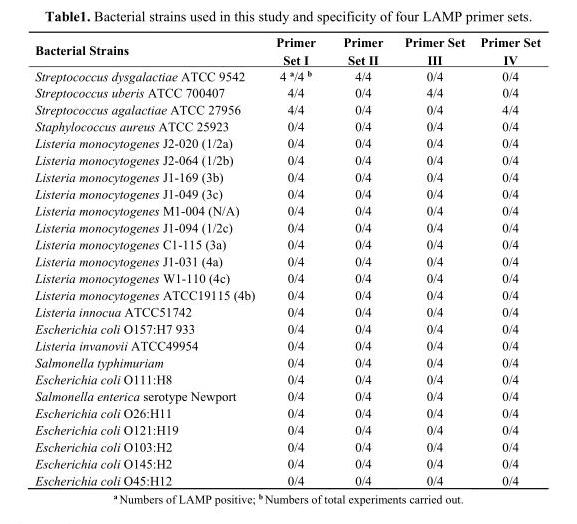table: (34, 34, 540, 487)
table column: (34, 34, 264, 487), (393, 34, 471, 487), (471, 34, 540, 487), (328, 34, 393, 487), (264, 34, 328, 487)
table column header: (34, 34, 540, 67)
table row: (34, 34, 540, 67), (34, 67, 540, 84), (34, 100, 540, 117), (34, 117, 540, 134), (34, 134, 540, 151), (34, 151, 540, 168), (34, 184, 540, 201), (34, 201, 540, 218), (34, 218, 540, 235), (34, 235, 540, 252), (34, 252, 540, 269), (34, 269, 540, 286), (34, 302, 540, 319), (34, 319, 540, 336), (34, 336, 540, 353), (34, 353, 540, 370), (34, 370, 540, 387), (34, 387, 540, 404), (34, 404, 540, 421), (34, 437, 540, 454), (34, 454, 540, 471), (34, 84, 540, 100), (34, 168, 540, 184), (34, 286, 540, 302), (34, 421, 540, 437), (34, 471, 540, 487)
